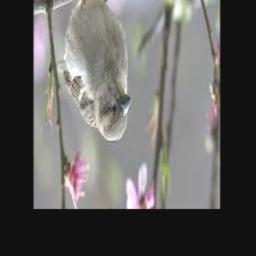Sparrow: (56, 0, 132, 142)
